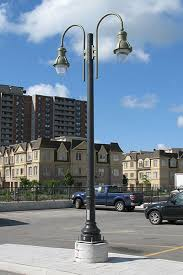light_pole: (74, 26, 112, 264)
